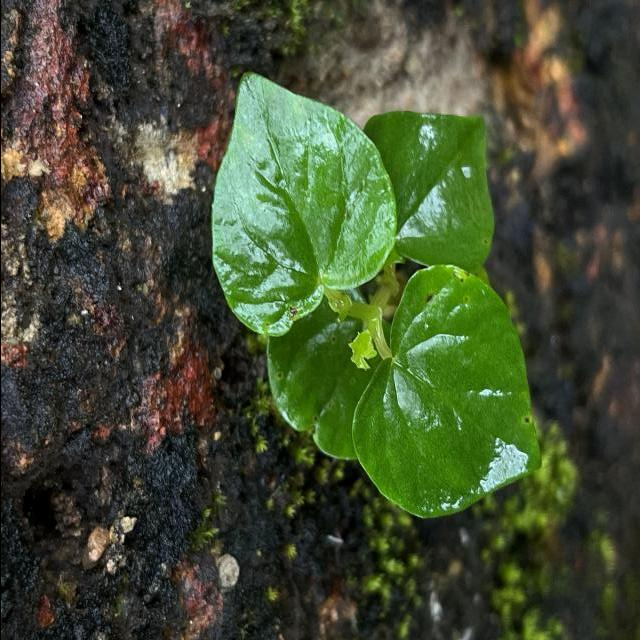Peperomia pellucida: (208, 70, 398, 340), (349, 262, 542, 520)
